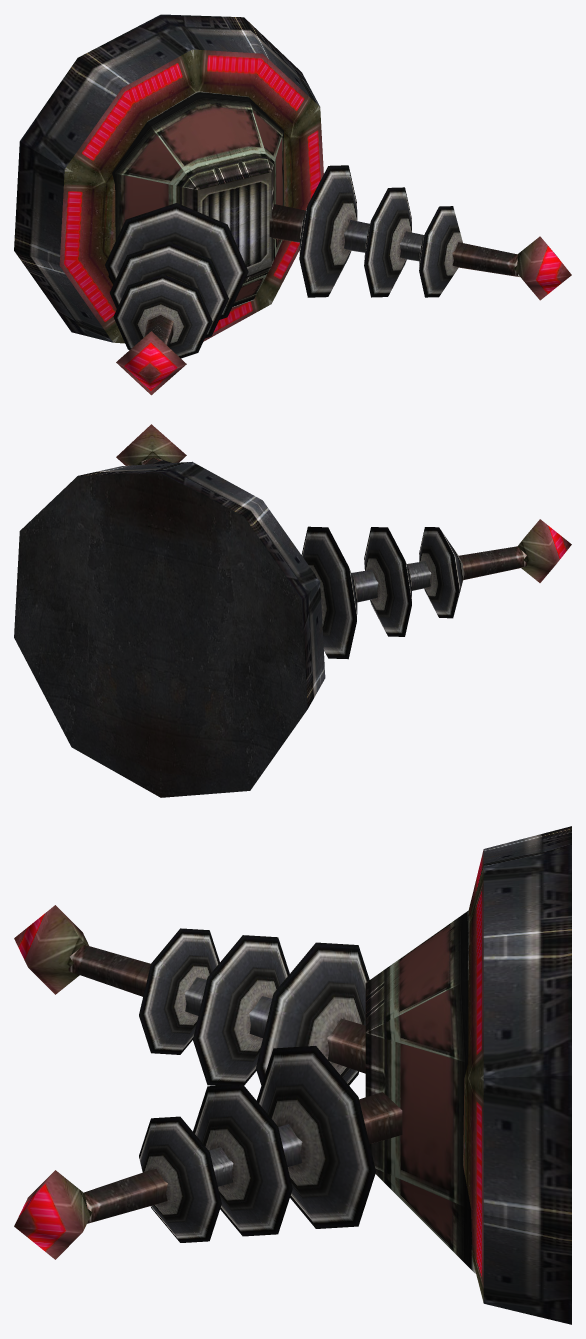
Rendered from comm-tower-06.obj.
3 renders of one model, top to bottom at view 1: azimuth 30°, elevation 25°; view 2: azimuth 150°, elevation 25°; view 3: azimuth 270°, elevation 25°, orthographic. The views are drawn at different scales.
Visible parts, largest first — view 1: comm_tower_06; view 2: comm_tower_06; view 3: comm_tower_06.
Boxes of the visible parts, box(x1,y1,x2,y2) form: comm_tower_06: box(14, 14, 571, 395); comm_tower_06: box(14, 424, 571, 797); comm_tower_06: box(14, 826, 571, 1324).
Size of the model in its own units: 3.19 by 2.25 by 2.51.
1 material, 1 textured.
